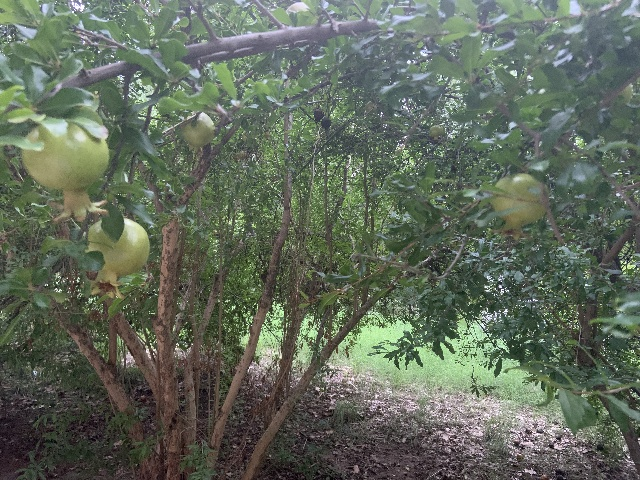mid-growth: (21, 123, 108, 223), (84, 218, 149, 299), (488, 173, 549, 242), (180, 111, 215, 153), (429, 124, 443, 140), (363, 102, 376, 115), (237, 150, 246, 161), (264, 130, 271, 140)
